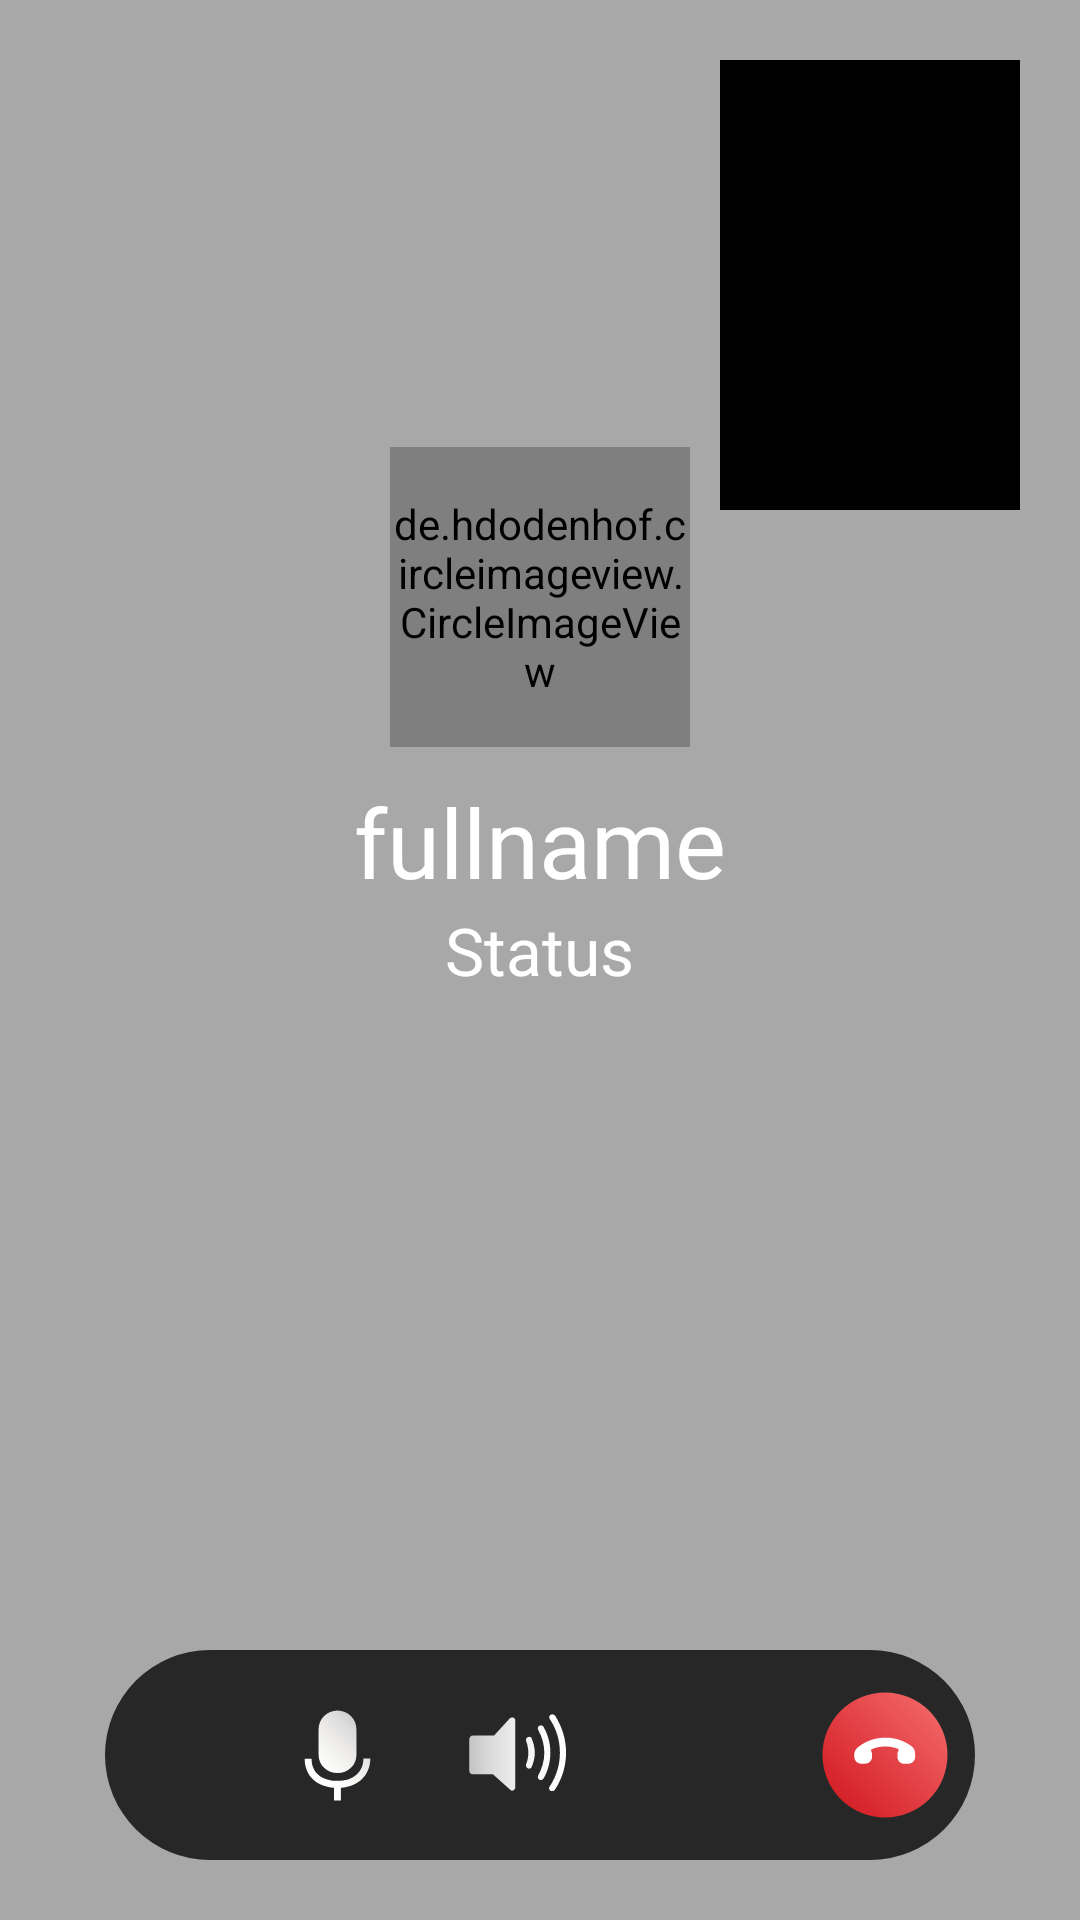

Named icons in this screenshot (1080*1920) and their centers, (x=x, y=y):
cancel: (x=885, y=1755)
outspeaker: (x=517, y=1752)
turnonmic: (x=337, y=1755)
